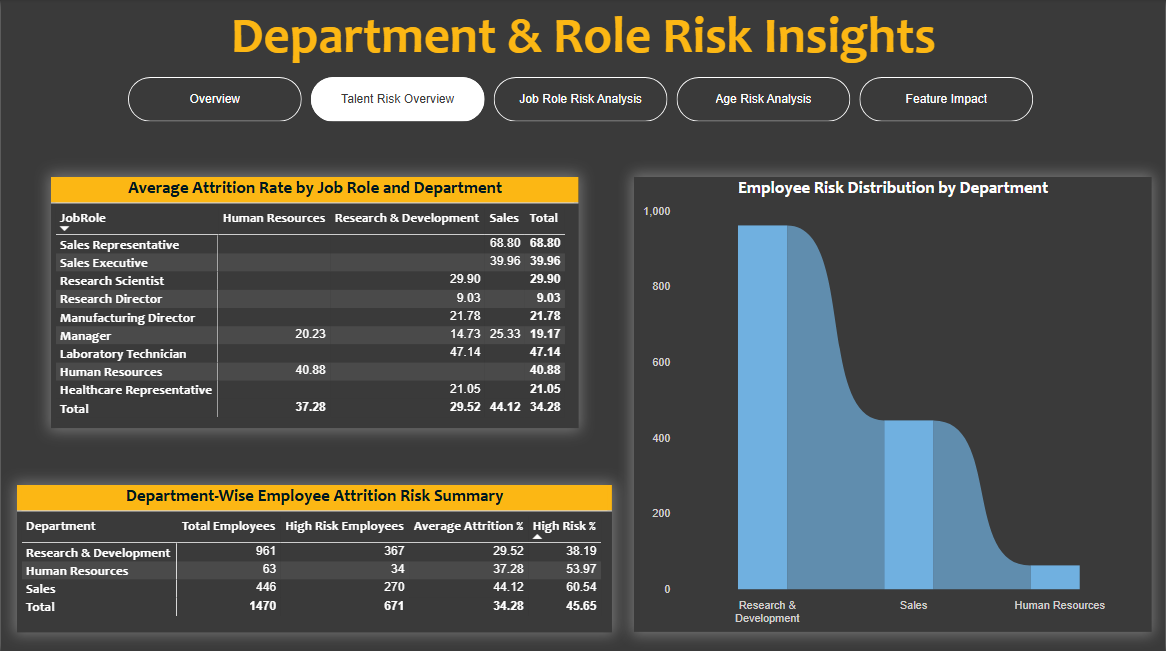

This screenshot's page, from the dashboard's own definition file:
{"tool":"powerbi","page":{"name":"Talent Risk Overview","canvas":[1280,720],"ordinal":1},"visuals":[{"type":"pivotTable","title":"Average Attrition Rate by Job Role and Department","fields":{"Columns":["ibm_hr_dataset.Department"],"Values":["Measure_Table.Average Attrition %"],"Rows":["ibm_hr_dataset.JobRole"]},"box":[55,195.7,580.4,275.9],"z":0},{"type":"ribbonChart","title":"Employee Risk Distribution by Department","fields":{"Category":["ibm_hr_dataset.Department"],"Y":["CountNonNull(ibm_hr_dataset.Risk_Level)"]},"box":[695.8,195.7,569.4,500.2],"z":1000},{"type":"pivotTable","title":"Department-Wise Employee Attrition Risk Summary","fields":{"Rows":["ibm_hr_dataset.Department"],"Values":["Measure_Table.Total Employees","Measure_Table.High Risk Employees","Measure_Table.Average Attrition %","Measure_Table.High Risk %"]},"box":[17.6,534.2,654,161.6],"z":2000},{"type":"pageNavigator","box":[139.6,85.7,999.2,49.5],"z":3000},{"type":"textbox","box":[0,0,1280,85.5],"z":4000}]}

Visuals, with their boxes in screenshot pixels (x1, y1, x2, y2), scaled from the page's 1280x720 canvas onto the 1166x651 screenshot:
"Average Attrition Rate by Job Role and Department" pivotTable: left=50, top=177, right=579, bottom=426
"Employee Risk Distribution by Department" ribbonChart: left=634, top=177, right=1153, bottom=629
"Department-Wise Employee Attrition Risk Summary" pivotTable: left=16, top=483, right=612, bottom=629
pageNavigator: left=127, top=77, right=1037, bottom=122
textbox: left=0, top=0, right=1165, bottom=77
